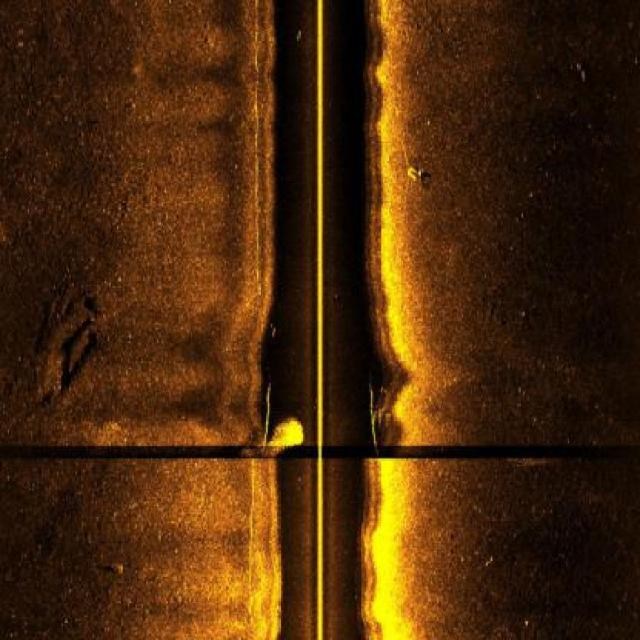mine: (404, 165, 424, 186), (104, 563, 130, 579)
